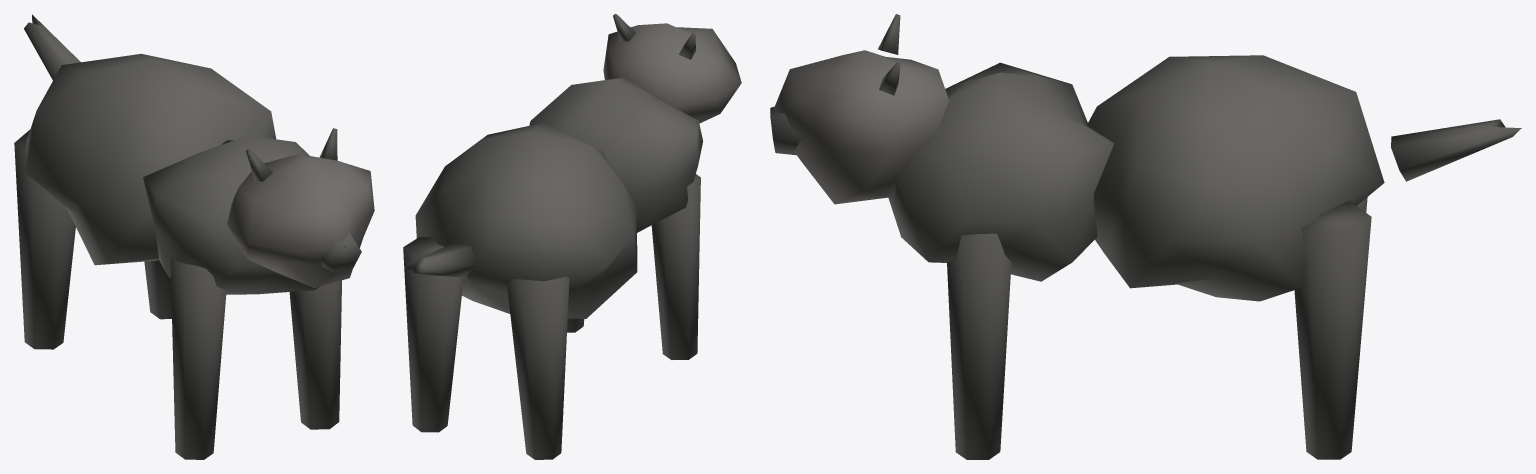
The model's file is wolf.glb.
The picture shows the model from 3 angles, left to right: view 1: azimuth 30°, elevation 25°; view 2: azimuth 150°, elevation 25°; view 3: azimuth 270°, elevation 25°; orthographic projection. The views are drawn at different scales.
Visible parts, largest first — view 1: wolf; view 2: wolf; view 3: wolf.
Part boxes in pixels (x1,y1,x2,y2): wolf: [14, 14, 374, 459]; wolf: [403, 14, 741, 459]; wolf: [770, 14, 1521, 459].
Size of the model in its own units: 0.6175 by 0.8856 by 1.59.
1 material, 1 textured.
